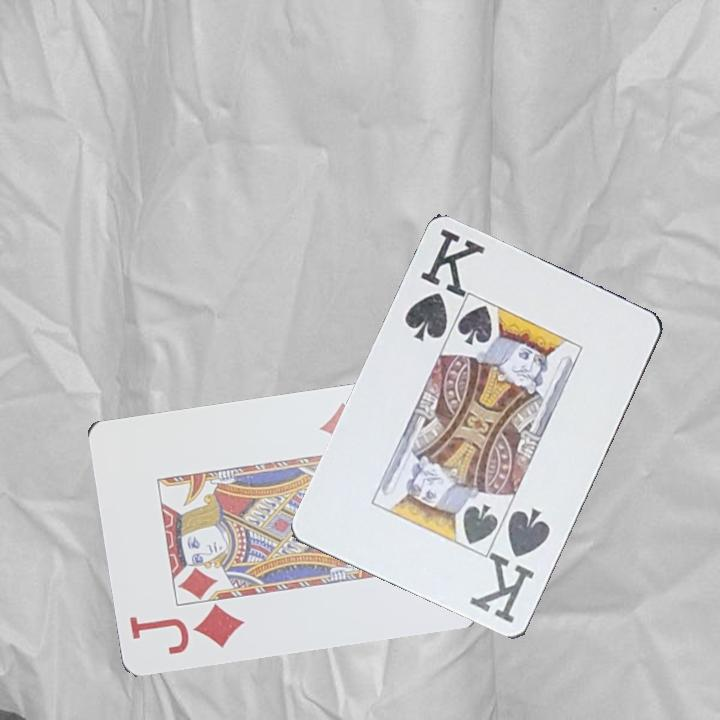Jd: (126, 600, 248, 657)
Ks: (469, 504, 554, 627), (401, 225, 486, 345)
